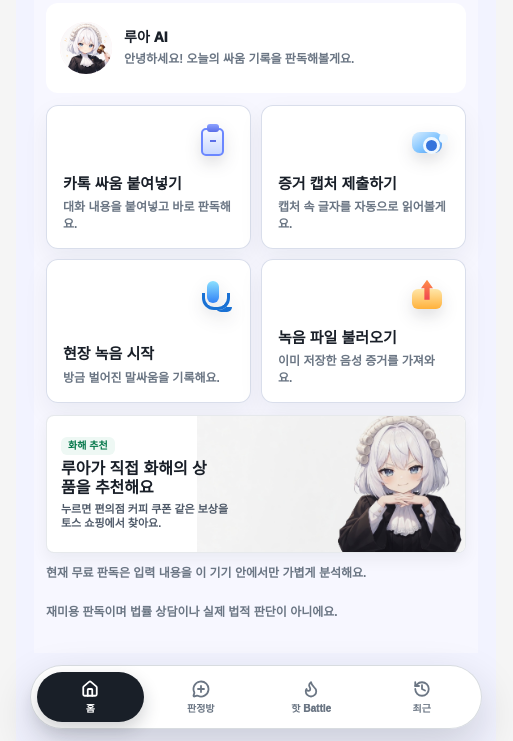
InputHome › opens a real recent page from the bottom tabbar
The image size is (513, 741).
Step 1. Click the button "최근" → (422, 697), box [368,672,475,722]
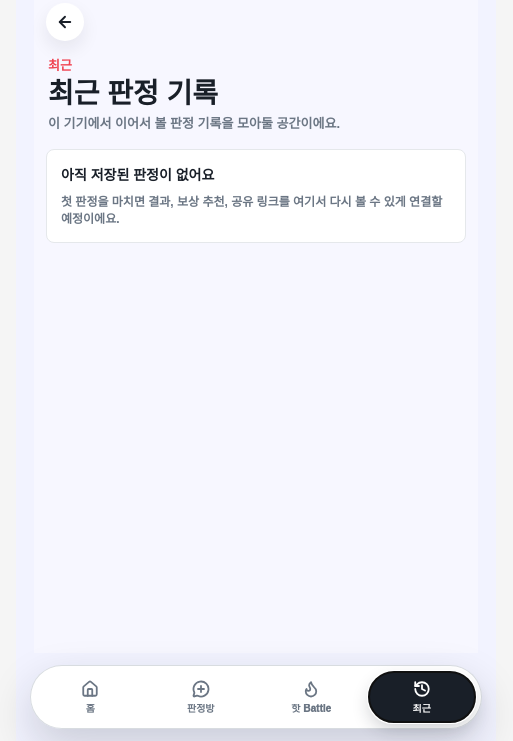
Now the heading "최근 판정 기록" is shown, box [48,78,218,109]
Now the text "아직 저장된 판정이 없어요" is shown, box [61,167,214,183]
